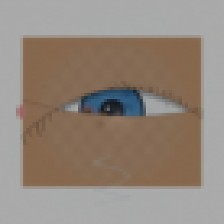foreign_body_visible: (92, 107, 114, 125)
